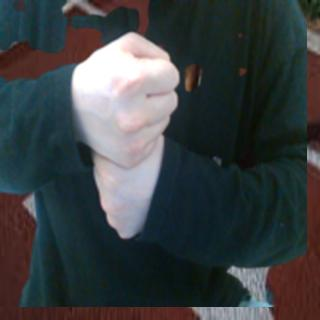CAREFUL: (69, 24, 182, 249)
